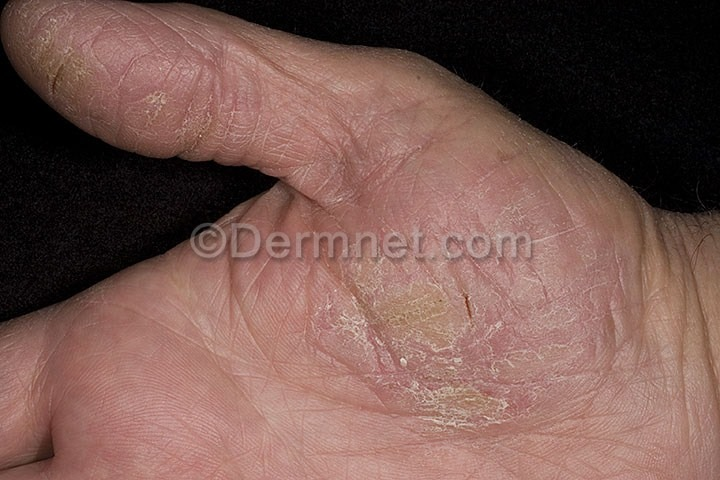Psoriasis: (312, 213, 639, 415), (9, 3, 176, 143)
